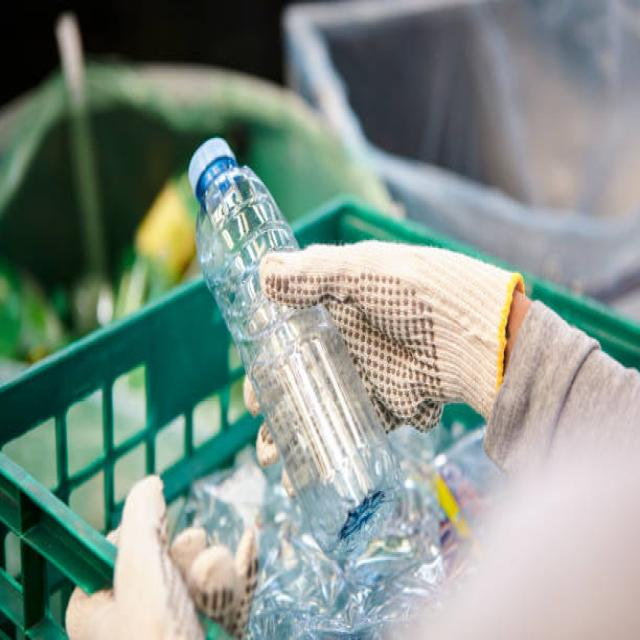plastic: (182, 116, 391, 546)
